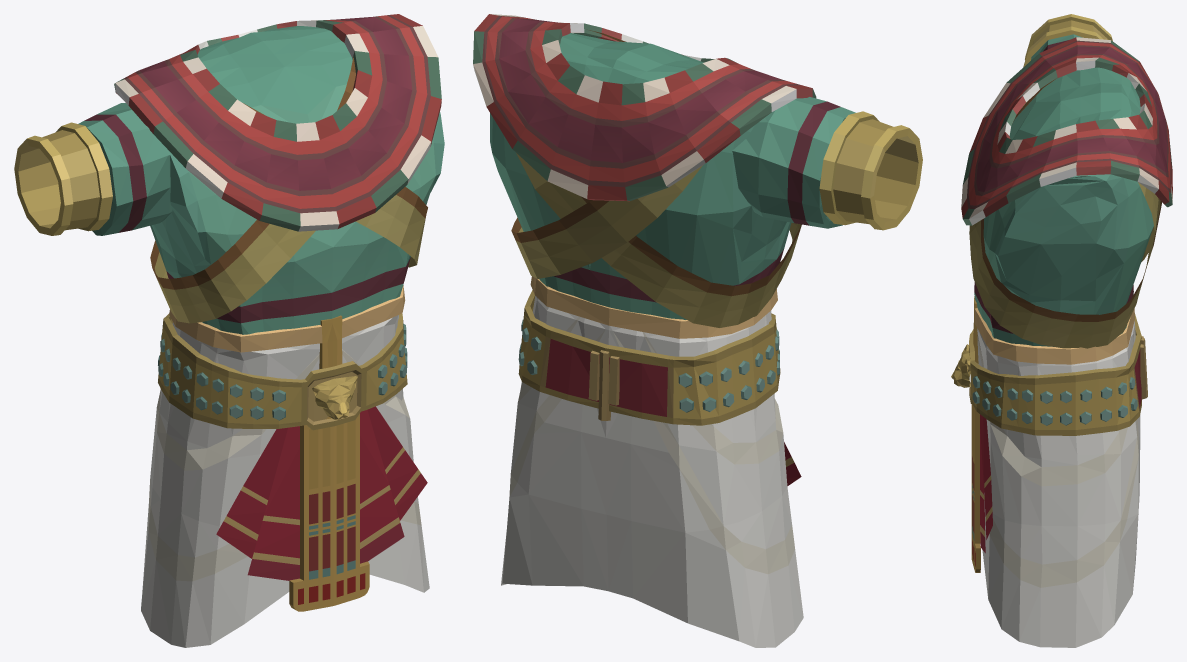
Rendered from ancientEgyptArmorDetailed.glb.
3 renders of one model, left to right at view 1: azimuth 30°, elevation 25°; view 2: azimuth 150°, elevation 25°; view 3: azimuth 270°, elevation 25°, orthographic. The views are drawn at different scales.
Visible parts, largest first — view 1: ancientEgyptArmorDetailed, ancientEgyptArmorDetailedNeck, ancientEgyptArmorDetailedUpperArm, ancientEgyptArmoDetailedrBelt, ancientEgyptArmorDetailedBelt2; view 2: ancientEgyptArmorDetailed, ancientEgyptArmorDetailedNeck, ancientEgyptArmorDetailedUpperArm, ancientEgyptArmoDetailedrBelt, ancientEgyptArmorDetailedBelt2; view 3: ancientEgyptArmorDetailed, ancientEgyptArmorDetailedNeck, ancientEgyptArmorDetailedBelt2, ancientEgyptArmorDetailedUpperArm, ancientEgyptArmoDetailedrBelt.
Part boxes in pixels (x1,y1,x2,y2): ancientEgyptArmorDetailed: (141,26,444,647); ancientEgyptArmorDetailedNeck: (114,14,441,231); ancientEgyptArmorDetailedUpperArm: (14,103,172,235); ancientEgyptArmoDetailedrBelt: (150,56,355,323); ancientEgyptArmorDetailedBelt2: (243,103,427,267); ancientEgyptArmorDetailed: (490,33,803,647); ancientEgyptArmorDetailedNeck: (473,14,816,201); ancientEgyptArmorDetailedUpperArm: (732,97,922,230); ancientEgyptArmoDetailedrBelt: (516,30,801,327); ancientEgyptArmorDetailedBelt2: (511,165,702,278); ancientEgyptArmorDetailed: (951,67,1153,647); ancientEgyptArmorDetailedNeck: (961,37,1172,225); ancientEgyptArmorDetailedBelt2: (969,78,1161,348); ancientEgyptArmorDetailedUpperArm: (1023,14,1112,66); ancientEgyptArmoDetailedrBelt: (1138,182,1158,261).
Size of the model in its own units: 0.772 by 1.05 by 0.4217.
